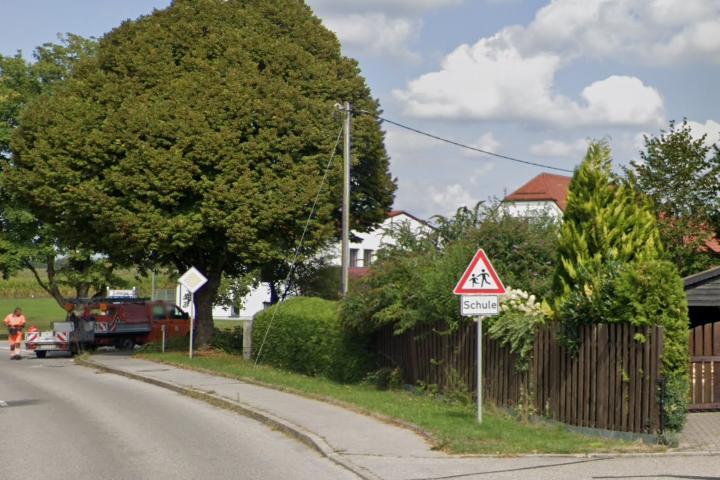traffic_sign: (453, 248, 506, 294), (177, 265, 208, 294)
vehicle: (61, 289, 204, 361)
